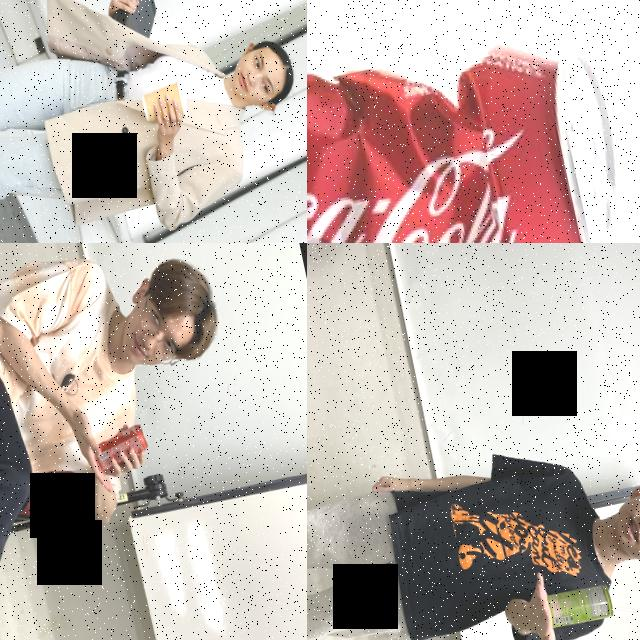can: (544, 582, 614, 629), (88, 422, 151, 474)
cup: (138, 78, 190, 126)
